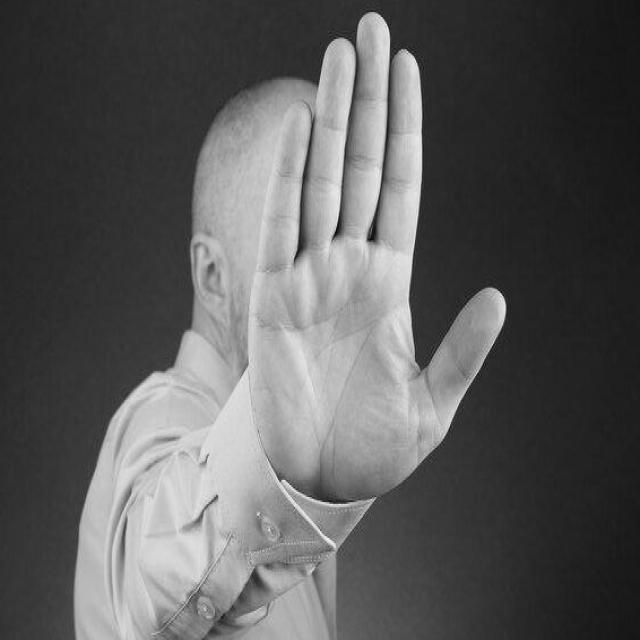stop: (242, 5, 511, 516)
